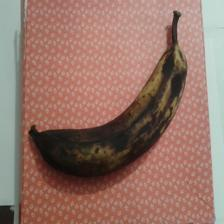Banana Rotten: (27, 14, 197, 180)
